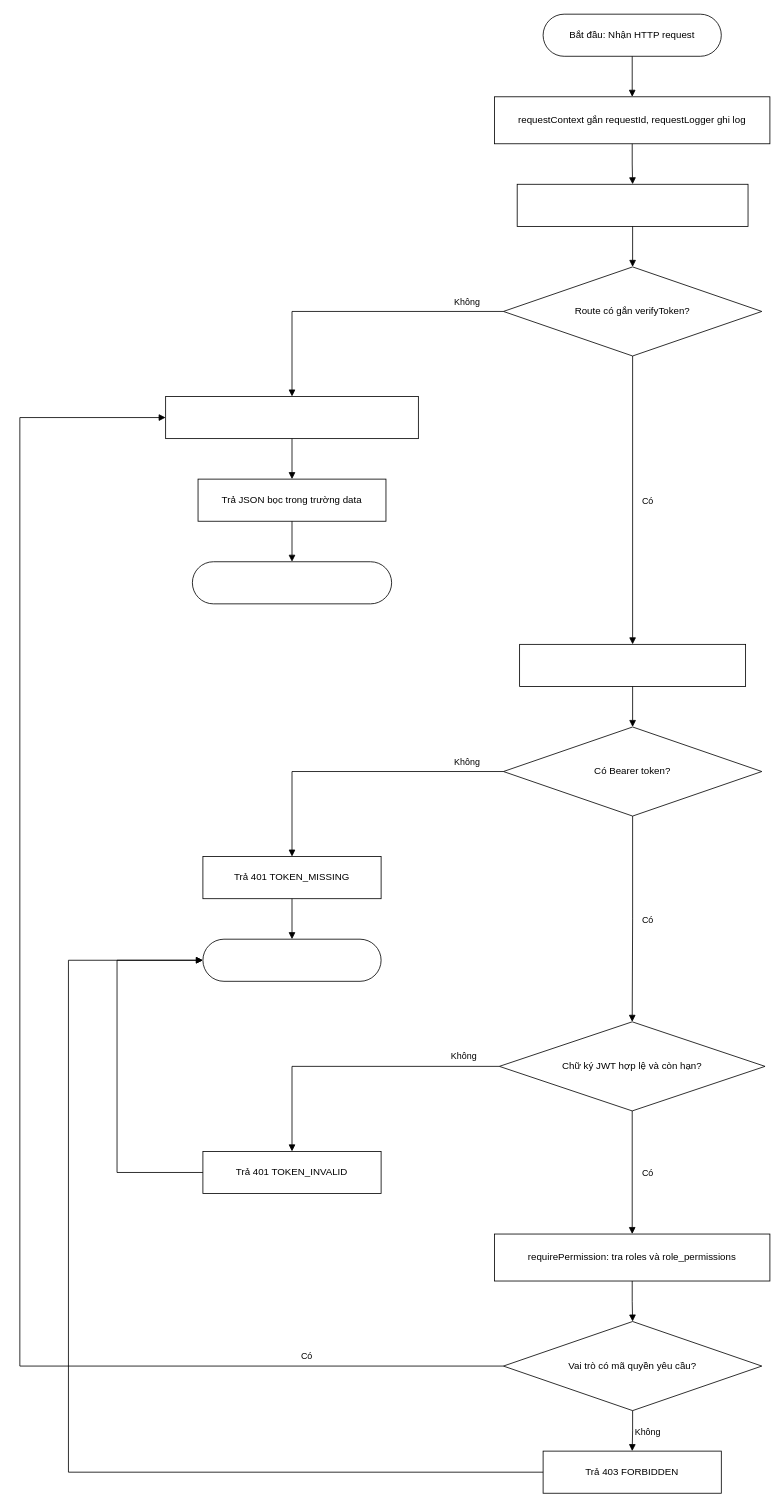
The diagram is 784 pixels wide and 1507 high, and some of its shapes have lost their labels. Here are the shapes that lost their labels. From the top down, the centre of each, then its label:
At [632,204]: "app.ts định tuyến tới module nghiệp vụ".
At [291,417]: "Chuyển vào controller, service, repository".
At [292,582]: "Kết thúc: Trả dữ liệu thành công".
At [632,665]: "verifyToken: đọc header Authorization".
At [291,959]: "Kết thúc: Từ chối truy cập".
